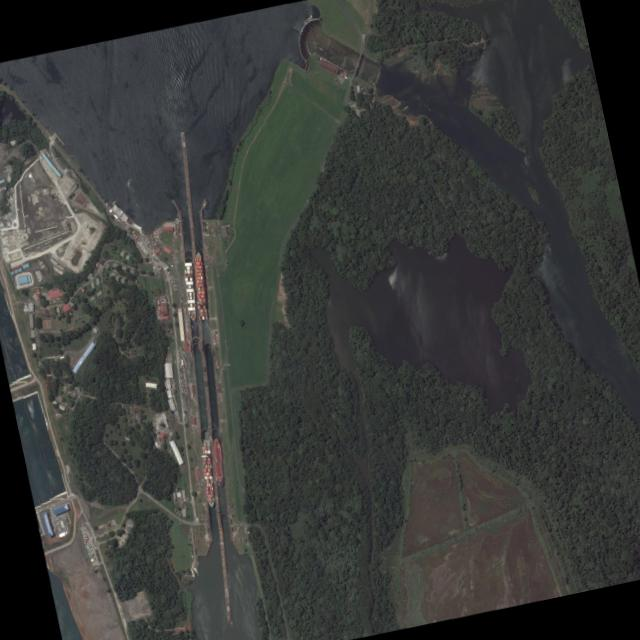ship: (200, 437, 214, 506), (193, 251, 207, 319), (183, 261, 196, 320), (211, 437, 224, 486), (110, 199, 114, 205), (126, 179, 129, 186)
